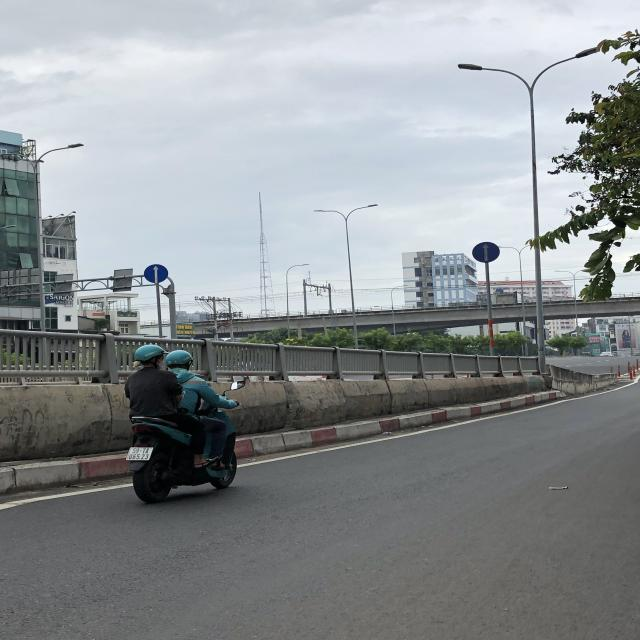Bien bao huong di thang phai theo: (470, 240, 502, 264), (143, 263, 170, 285)
